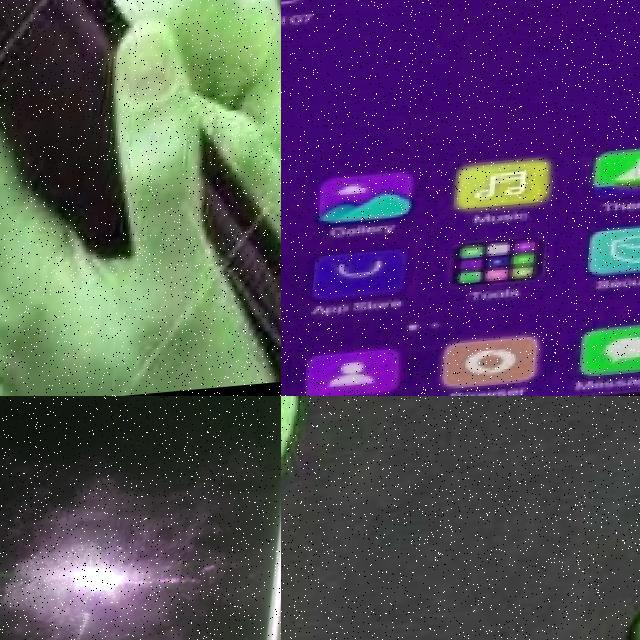screen crack: (40, 396, 281, 425)
